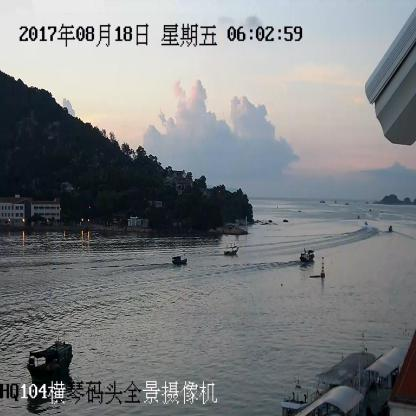Fishing Boat: (26, 341, 75, 379), (300, 247, 315, 264), (172, 252, 188, 266), (224, 244, 238, 255)
